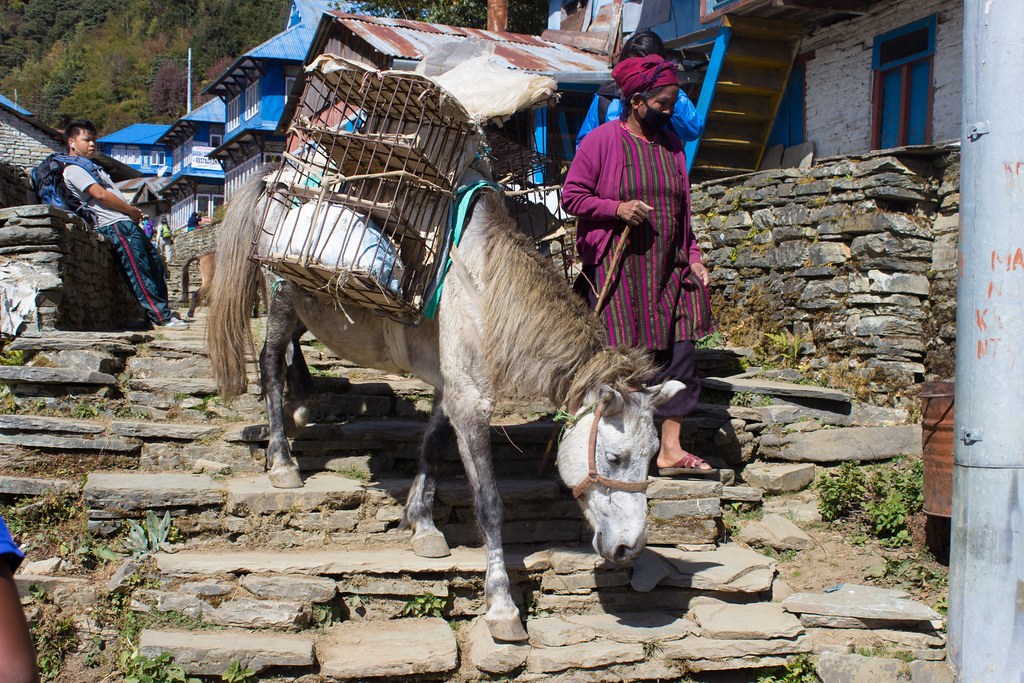human: (556, 36, 713, 485)
